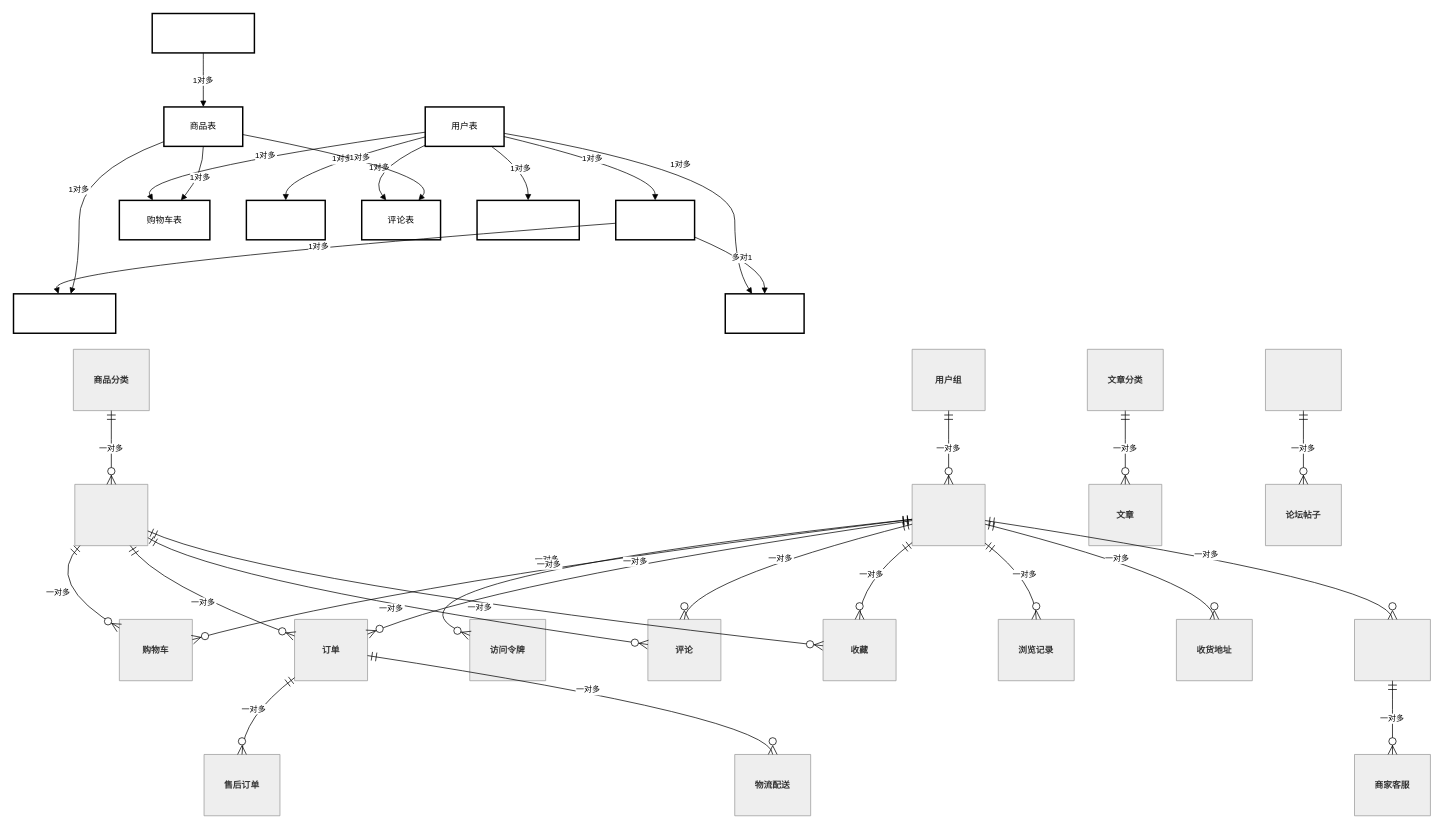
The diagram is 1443 pixels wide and 829 high, and some of its shapes have lost their labels. The shapes that lost their labels are listed below. From the top down, each one's centre as x and y in pixels, then its label:
the point at 203,32: 商品分类表
the point at 285,219: 论坛表
the point at 528,219: 回收申请表
the point at 655,219: 订单表
the point at 64,313: 订单商品表
the point at 764,313: 地址表
the point at 1303,380: 论坛分类
the point at 111,515: 商品
the point at 948,515: 用户
the point at 1392,650: 商家用户
